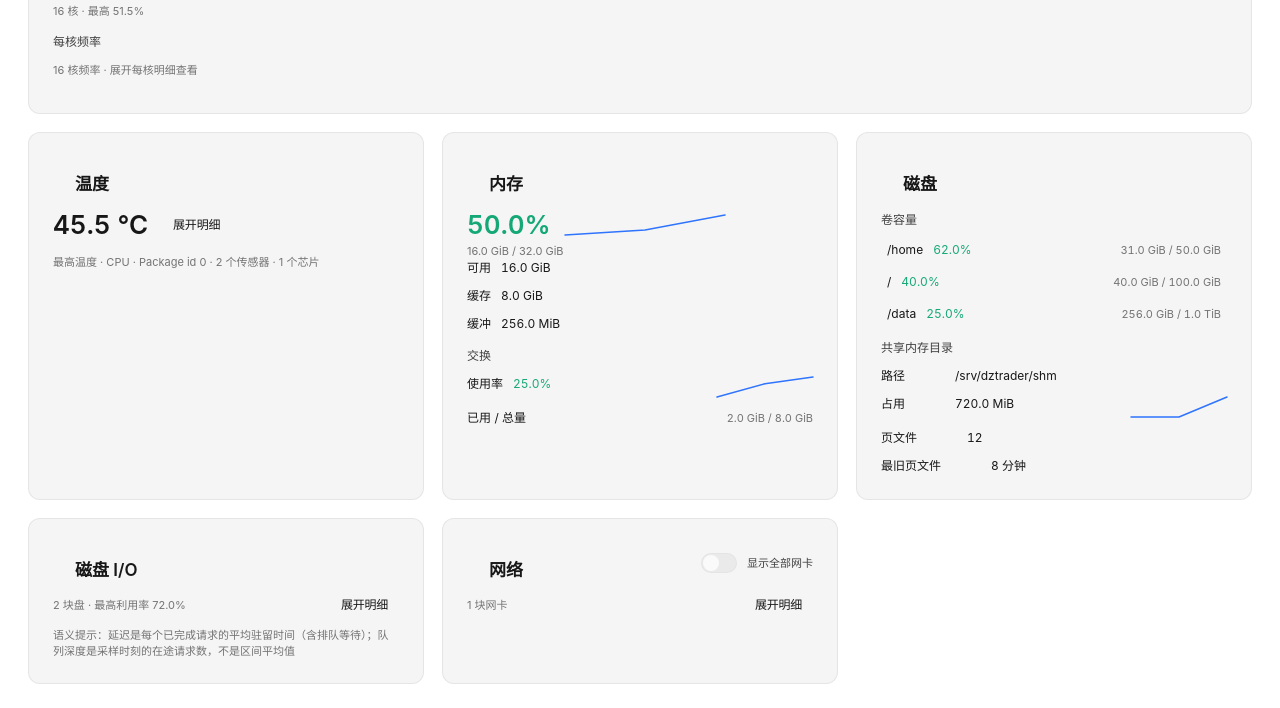
it: MonitorView 卡片折叠（#127：维度明细默认收起） › 每盘七项指标默认收起：只显示盘数与最高利用率
This screenshot has width=1280, height=708.
(page scrolled)
Expected: the text with test id "monitor-disk-io-summary" reads "2 块盘 · 最高利用率 72.0%", [53,598,186,612]
Click the button with test id "monitor-disk-io-detail-toggle". click: x=364, y=605
box: [330,593,399,617]
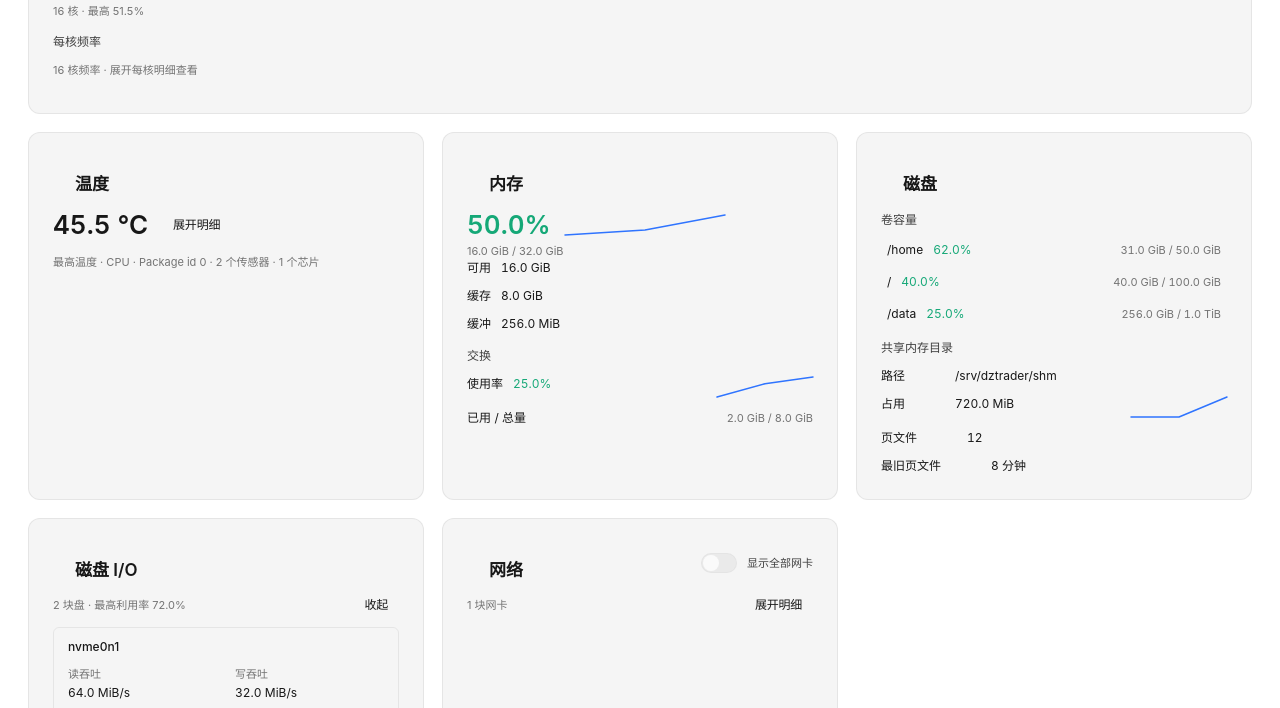
Result: the number of list items with test id "monitor-disk-io-row" is 2
